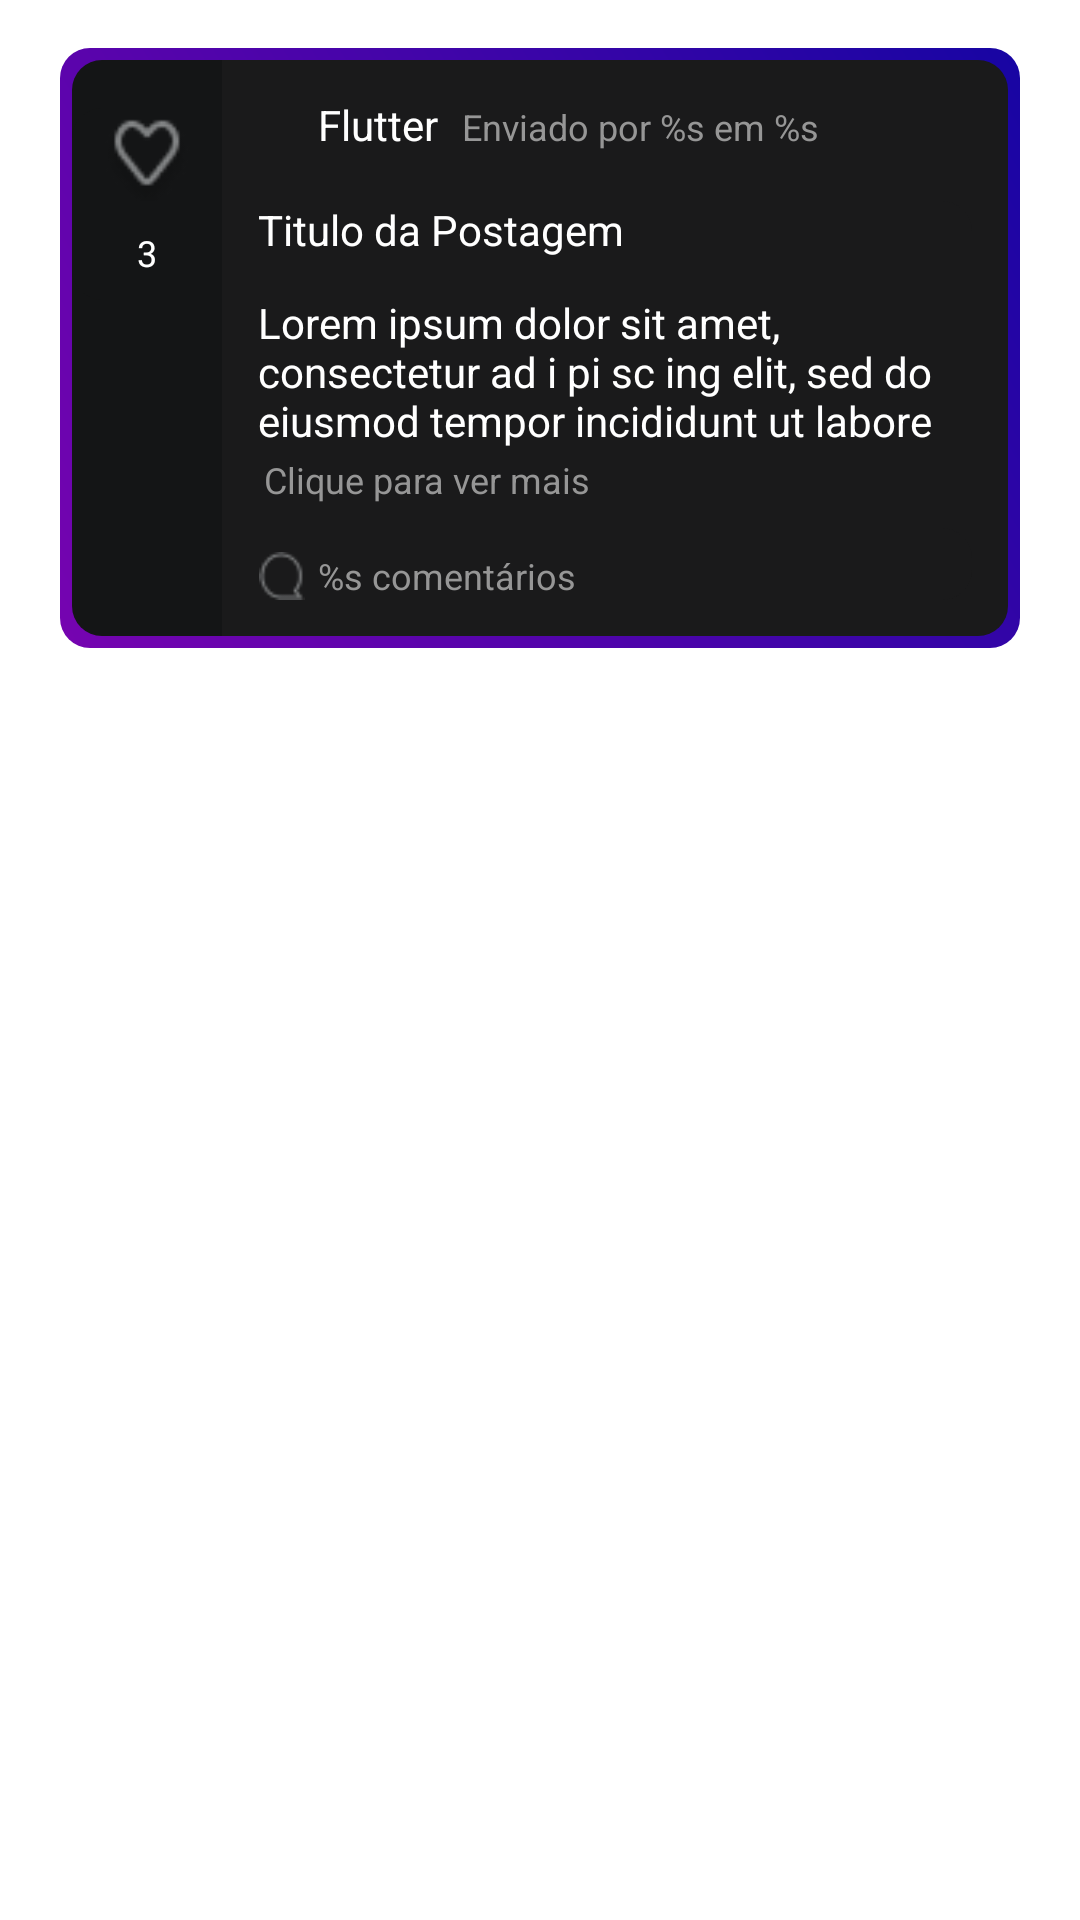

Icons on this 1080w x 1920h Android screen, each with its box as rect(x1, y1, x2, y2):
upvote: rect(114, 120, 180, 186)
